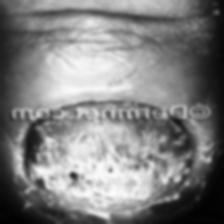Toxin: (23, 102, 193, 200)
